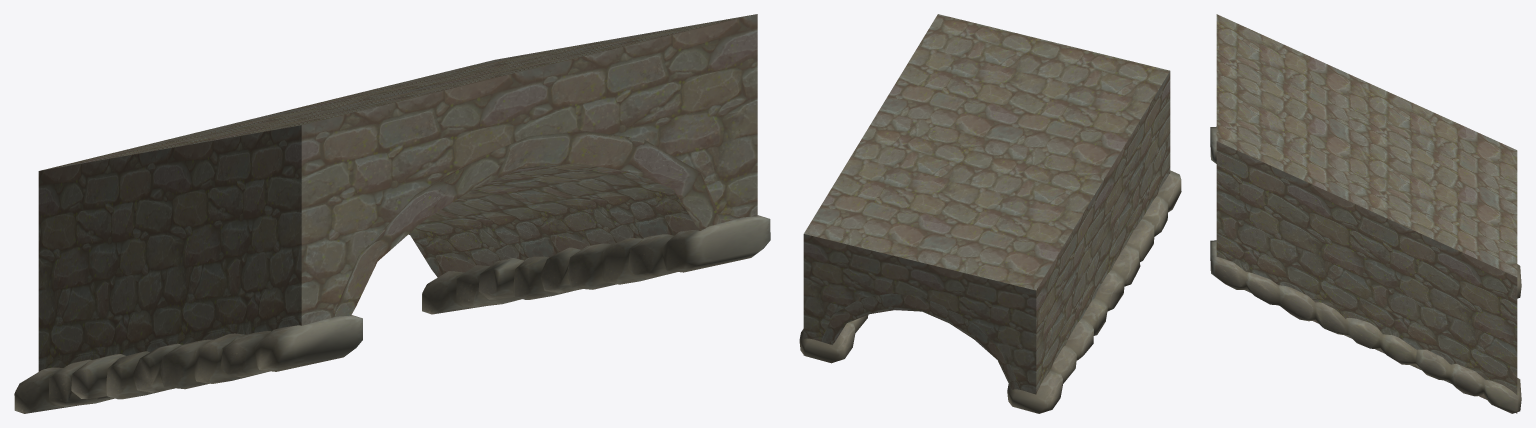
The model's file is SM_FW01_Ruins_Int_Ceiling_B_4x4_Ramp_01.fbx.
The picture shows the model from 3 angles, left to right: view 1: azimuth 30°, elevation 25°; view 2: azimuth 150°, elevation 25°; view 3: azimuth 270°, elevation 25°; orthographic projection. The views are drawn at different scales.
Parts seen in each view (by area): view 1: SM_FW01_Ruins_Int_Ceiling_B_4x4_Ramp_01, SM_FW01_Ruins_Int_Ceiling_B_4x4_Ramp_01_LOD0; view 2: SM_FW01_Ruins_Int_Ceiling_B_4x4_Ramp_01, SM_FW01_Ruins_Int_Ceiling_B_4x4_Ramp_01_LOD0; view 3: SM_FW01_Ruins_Int_Ceiling_B_4x4_Ramp_01, SM_FW01_Ruins_Int_Ceiling_B_4x4_Ramp_01_LOD0.
Part boxes in pixels (x1,y1,x2,y2): SM_FW01_Ruins_Int_Ceiling_B_4x4_Ramp_01: [38, 14, 757, 399]; SM_FW01_Ruins_Int_Ceiling_B_4x4_Ramp_01_LOD0: [14, 215, 770, 413]; SM_FW01_Ruins_Int_Ceiling_B_4x4_Ramp_01: [803, 14, 1170, 394]; SM_FW01_Ruins_Int_Ceiling_B_4x4_Ramp_01_LOD0: [799, 170, 1181, 413]; SM_FW01_Ruins_Int_Ceiling_B_4x4_Ramp_01: [1216, 14, 1517, 413]; SM_FW01_Ruins_Int_Ceiling_B_4x4_Ramp_01_LOD0: [1210, 126, 1521, 413].
Size of what is drawn, in the model's own units: 4.44 by 4.01 by 4.14.
